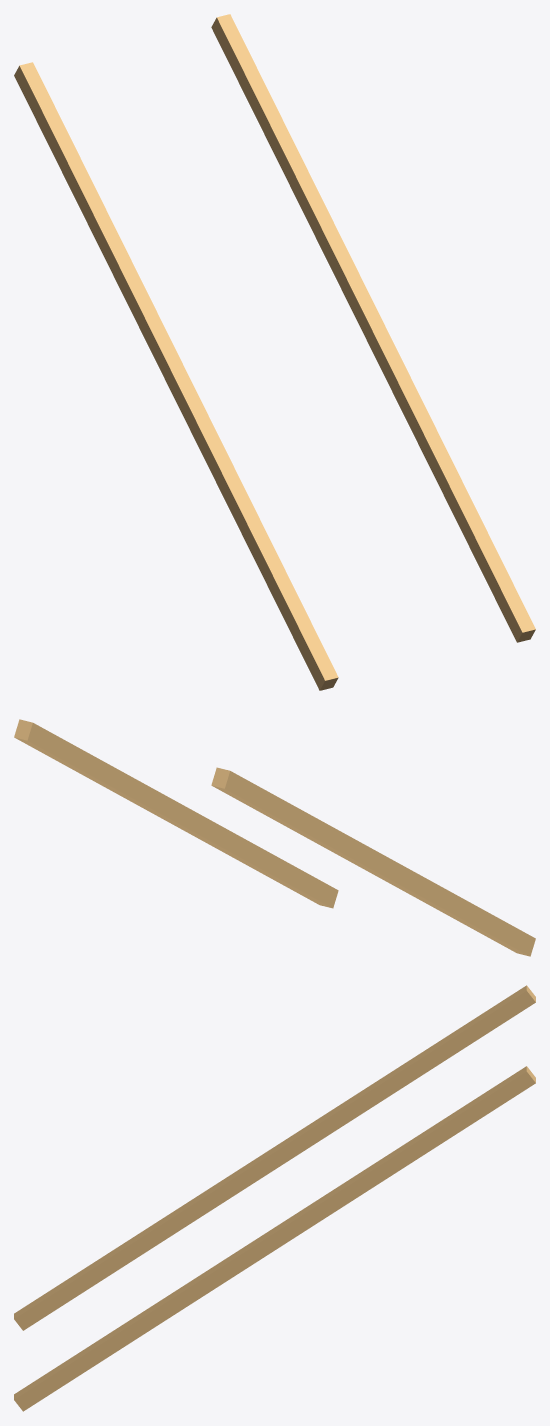
File: gate_deco.fbx
The picture shows the model from 3 angles, top to bottom: view 1: azimuth 30°, elevation 25°; view 2: azimuth 150°, elevation 25°; view 3: azimuth 270°, elevation 25°; orthographic projection. The views are drawn at different scales.
Visible parts, largest first — view 1: PM3D_Cylinder3D_21; view 2: PM3D_Cylinder3D_21; view 3: PM3D_Cylinder3D_21.
Part boxes in pixels (box(x1,y1,x2,y2)): PM3D_Cylinder3D_21: box(14, 14, 535, 690); PM3D_Cylinder3D_21: box(14, 719, 535, 956); PM3D_Cylinder3D_21: box(14, 985, 535, 1411).
Bounding box in the file's own units: 0.403 × 0.7411 × 1.03.
